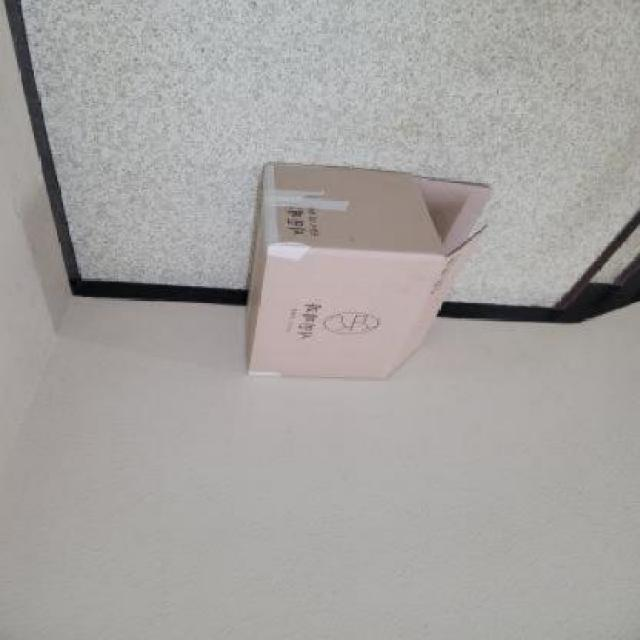box: (240, 158, 506, 392)
